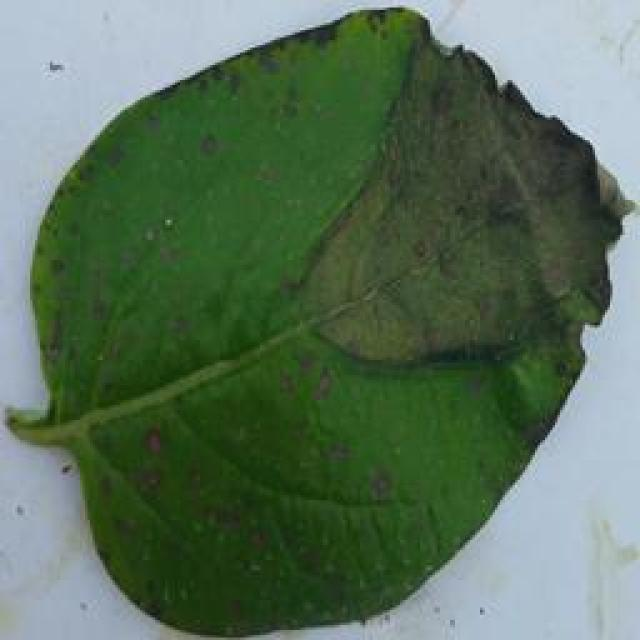Potato_Late_Blight: (7, 7, 637, 634)
